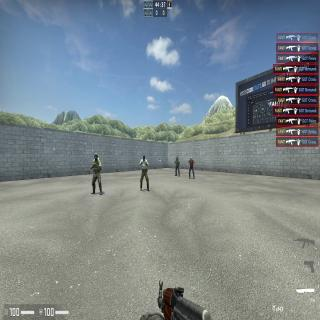CT-Body: (92, 153, 102, 194), (176, 156, 180, 176)
CT-Head: (94, 153, 98, 162), (176, 156, 178, 159)
T-Body: (140, 154, 148, 192), (190, 157, 193, 175)
T-Head: (142, 154, 146, 162), (191, 157, 192, 160)
